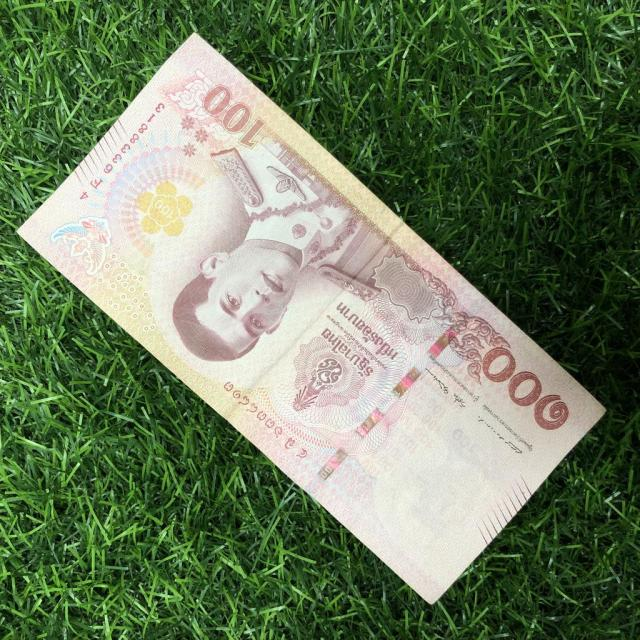THAI100: (19, 34, 604, 603)
